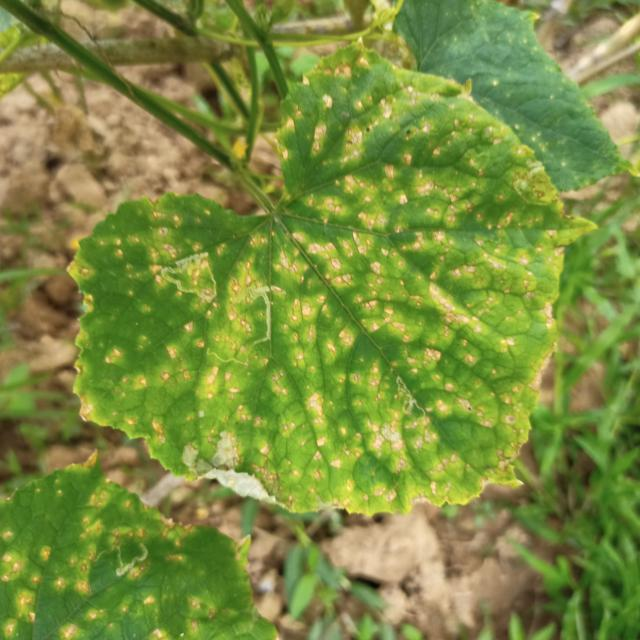disease_cucumber: (86, 66, 564, 507)
